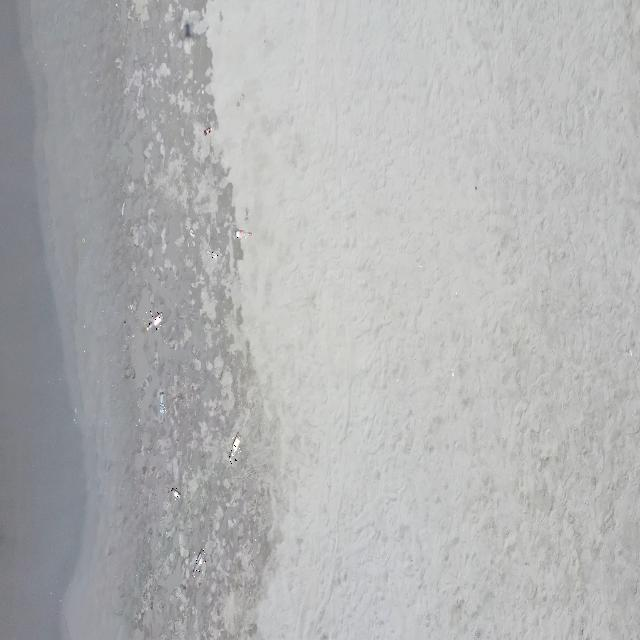glass: (229, 430, 242, 464), (192, 548, 206, 578), (146, 310, 165, 330), (158, 392, 167, 424), (234, 230, 252, 240), (171, 488, 181, 500), (207, 250, 219, 260), (204, 126, 212, 138), (189, 228, 195, 240)
